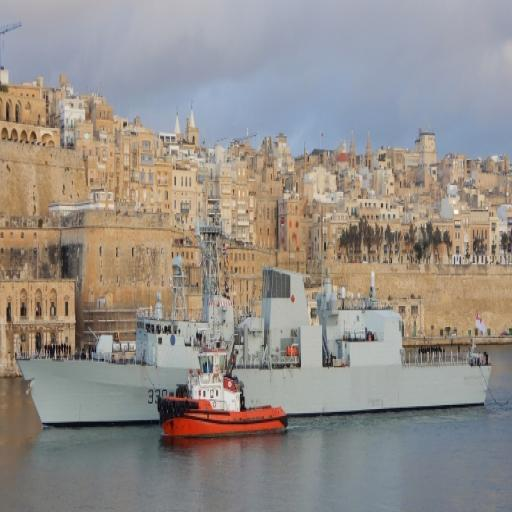Fragata: (14, 193, 492, 434)
